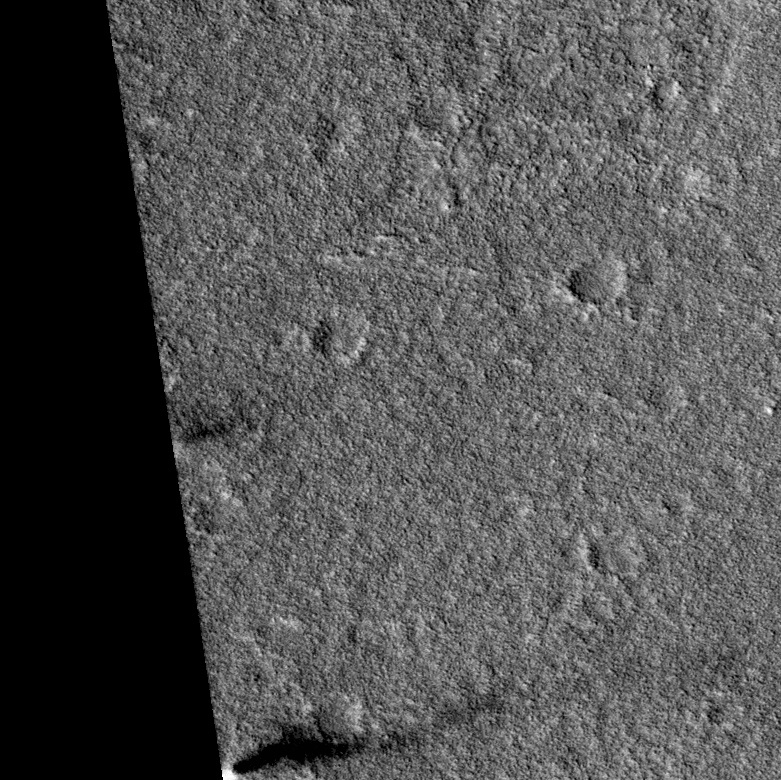dust_devil: (221, 691, 508, 780), (172, 415, 239, 457)
